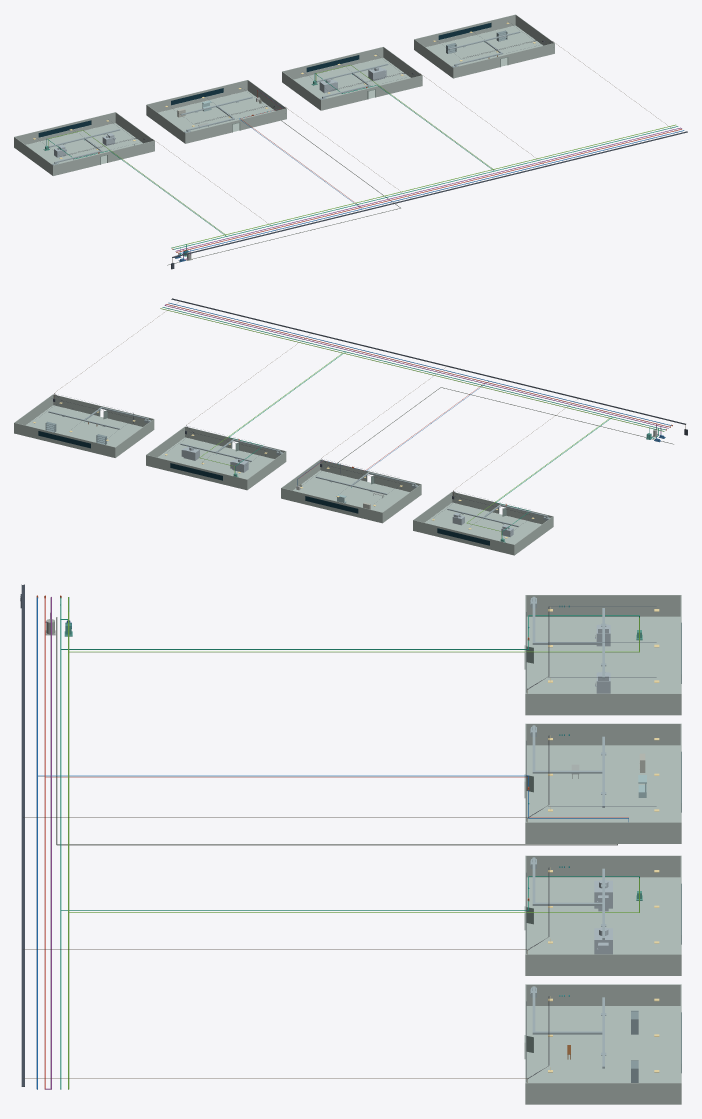
File: MASK.glb
3 views of the same model, one above another, from view 1: azimuth 30°, elevation 25°; view 2: azimuth 150°, elevation 25°; view 3: azimuth 270°, elevation 25° (orthographic). The views are drawn at different scales.
Parts seen in each view (by area): view 1: V4_MASK_R02_WALLS, V4_MASK_R01_WALLS, V4_MASK_R04_WALLS, V4_MASK_R03_WALLS, V4_MASK_R02_FLOOR_ZONE, V4_MASK_R04_FLOOR_ZONE, V4_MASK_R01_FLOOR_ZONE, V4_MASK_R03_FLOOR_ZONE, V4_MASK_TRAY0, V4_MASK_MAIN_HOT_RETURN, V4_MASK_MAIN_COLD, V4_MASK_MAIN_HOT (+2 smaller); view 2: V4_MASK_R04_WALLS, V4_MASK_R03_WALLS, V4_MASK_R02_WALLS, V4_MASK_R01_WALLS, V4_MASK_R02_FLOOR_ZONE, V4_MASK_R04_FLOOR_ZONE, V4_MASK_R01_FLOOR_ZONE, V4_MASK_R03_FLOOR_ZONE, V4_MASK_TRAY0, V4_MASK_MAIN_HOT_RETURN, V4_MASK_MAIN_COLD, V4_MASK_MAIN_HOT (+2 smaller); view 3: V4_MASK_R02_FLOOR_ZONE, V4_MASK_R04_FLOOR_ZONE, V4_MASK_R01_FLOOR_ZONE, V4_MASK_R03_FLOOR_ZONE, V4_MASK_R02_WALLS, V4_MASK_R01_WALLS, V4_MASK_R03_WALLS, V4_MASK_R04_WALLS, V4_MASK_TRAY0, V4_MASK_R02_DRAIN, V4_MASK_R01_PCW_RETURN, V4_MASK_R02_PIPE_COLD (+5 smaller).
Boxes of the visible parts, x1,y1,x2,y2 form: V4_MASK_R02_WALLS: (146, 80, 286, 143); V4_MASK_R01_WALLS: (14, 112, 154, 175); V4_MASK_R04_WALLS: (414, 14, 554, 78); V4_MASK_R03_WALLS: (282, 47, 422, 110); V4_MASK_R02_FLOOR_ZONE: (158, 91, 274, 131); V4_MASK_R04_FLOOR_ZONE: (426, 25, 542, 66); V4_MASK_R01_FLOOR_ZONE: (26, 123, 142, 164); V4_MASK_R03_FLOOR_ZONE: (294, 57, 410, 98); V4_MASK_TRAY0: (172, 131, 687, 257); V4_MASK_MAIN_HOT_RETURN: (175, 127, 681, 251); V4_MASK_MAIN_COLD: (179, 130, 684, 253); V4_MASK_MAIN_HOT: (177, 129, 681, 252); V4_MASK_R04_WALLS: (14, 394, 154, 457); V4_MASK_R03_WALLS: (146, 426, 286, 490); V4_MASK_R02_WALLS: (281, 459, 421, 523); V4_MASK_R01_WALLS: (413, 491, 553, 555); V4_MASK_R02_FLOOR_ZONE: (293, 470, 409, 512); V4_MASK_R04_FLOOR_ZONE: (26, 405, 142, 447); V4_MASK_R01_FLOOR_ZONE: (425, 502, 541, 544); V4_MASK_R03_FLOOR_ZONE: (158, 437, 274, 479); V4_MASK_TRAY0: (171, 298, 685, 424); V4_MASK_MAIN_HOT_RETURN: (164, 304, 668, 428); V4_MASK_MAIN_COLD: (168, 302, 671, 425); V4_MASK_MAIN_HOT: (166, 304, 669, 427); V4_MASK_R02_FLOOR_ZONE: (526, 745, 680, 822); V4_MASK_R04_FLOOR_ZONE: (526, 1006, 680, 1082); V4_MASK_R01_FLOOR_ZONE: (526, 616, 680, 693); V4_MASK_R03_FLOOR_ZONE: (526, 877, 680, 954); V4_MASK_R02_WALLS: (525, 723, 681, 843); V4_MASK_R01_WALLS: (525, 595, 681, 715); V4_MASK_R03_WALLS: (525, 855, 681, 975); V4_MASK_R04_WALLS: (525, 984, 681, 1104); V4_MASK_TRAY0: (21, 584, 24, 1086); V4_MASK_R02_DRAIN: (56, 617, 617, 845); V4_MASK_R01_PCW_RETURN: (69, 617, 639, 652); V4_MASK_R02_PIPE_COLD: (38, 775, 628, 821).
Size of the model in its own units: 153 by 4.26 by 84.73.
